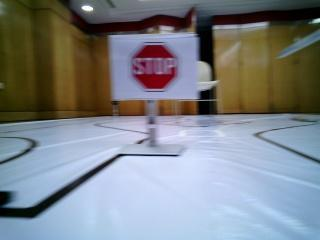stop: (115, 41, 189, 91)
